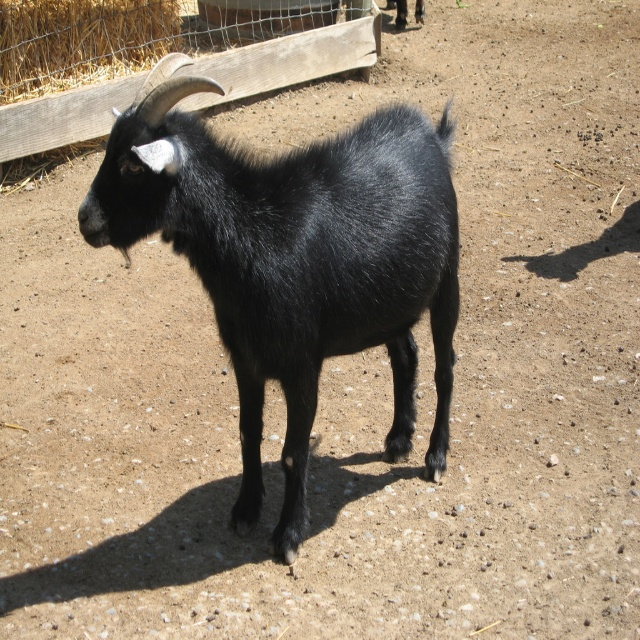Goat: (82, 52, 454, 566)
